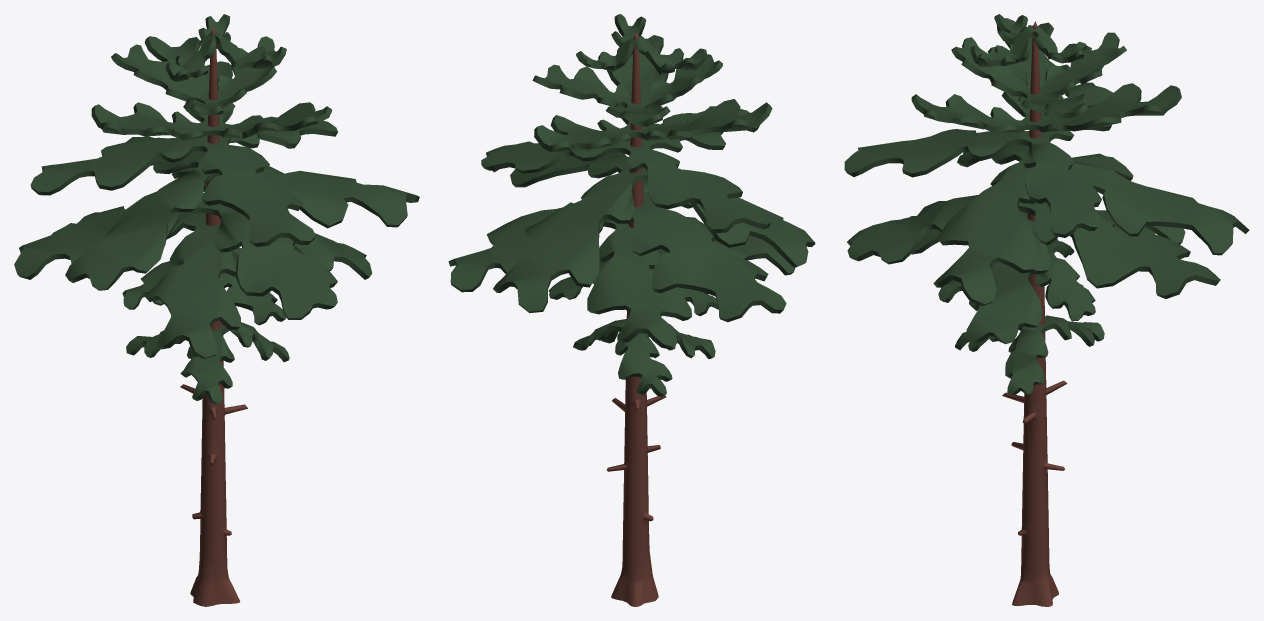
File: pinetree_01.fbx
3 views of the same model, side by side, from view 1: azimuth 30°, elevation 25°; view 2: azimuth 150°, elevation 25°; view 3: azimuth 270°, elevation 25° (orthographic). The views are drawn at different scales.
Visible parts, largest first — view 1: pine_leaves, pine_trunk; view 2: pine_leaves, pine_trunk; view 3: pine_leaves, pine_trunk.
Part boxes in pixels (<box>): pine_leaves: <box>14,14,419,404</box>; pine_trunk: <box>180,27,247,606</box>; pine_leaves: <box>448,14,815,396</box>; pine_trunk: <box>606,32,666,606</box>; pine_leaves: <box>844,14,1249,395</box>; pine_trunk: <box>1002,21,1066,606</box>.
Bounding box in the file's own units: 497 × 779 × 496.
